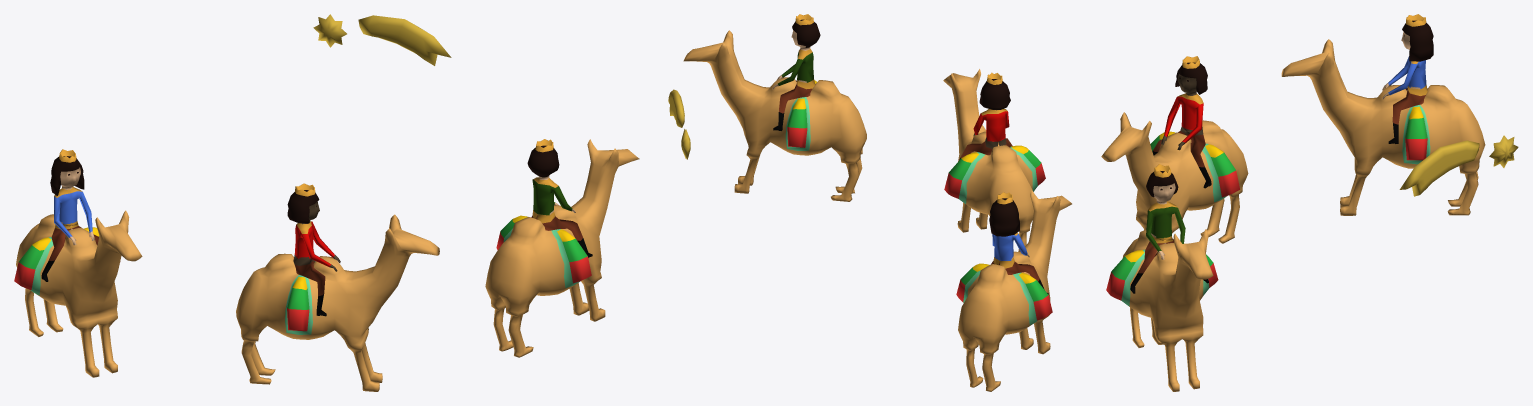
File: reis-asset.glb
3 renders of one model, left to right at view 1: azimuth 30°, elevation 25°; view 2: azimuth 150°, elevation 25°; view 3: azimuth 270°, elevation 25°, orthographic. The views are drawn at different scales.
Visible parts, largest first — view 1: Sphere.003, Sphere.005, Sphere, Plane; view 2: Sphere.005, Sphere, Sphere.003, Plane; view 3: Sphere, Sphere.005, Sphere.003, Plane.
Boxes of the visible parts, box(x1,y1,x2,y2) form: Sphere.003: box(236, 183, 439, 391); Sphere.005: box(485, 139, 639, 357); Sphere: box(14, 149, 142, 377); Plane: box(313, 14, 451, 65); Sphere.005: box(683, 14, 866, 201); Sphere: box(956, 189, 1071, 391); Sphere.003: box(943, 69, 1045, 251); Plane: box(668, 89, 690, 159); Sphere: box(1281, 14, 1485, 215); Sphere.005: box(1106, 164, 1218, 391); Sphere.003: box(1101, 56, 1248, 243); Plane: box(1399, 135, 1518, 196).
Bounding box in the file's own units: 34.3 × 15 × 24.49.
